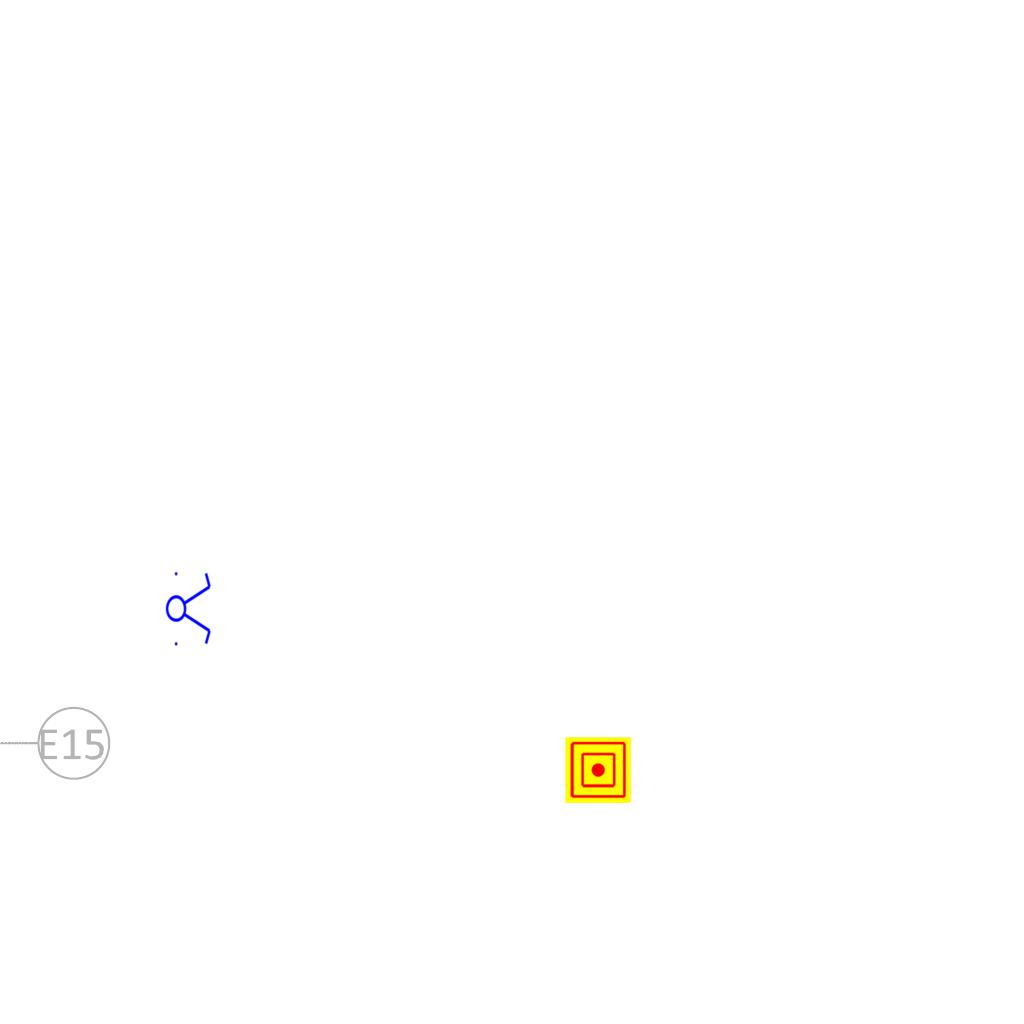NAM-Nichtautomatischer_Melder: (565, 737, 631, 803)
Serienschalter: (165, 566, 213, 650)
